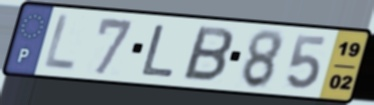5: (284, 32, 332, 90)
7: (94, 15, 137, 77)
8: (239, 27, 286, 92)
B: (179, 24, 236, 84)
L: (41, 12, 78, 74), (139, 23, 178, 79)
